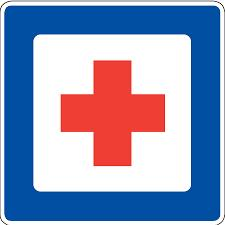Hospital: (16, 18, 204, 203)
